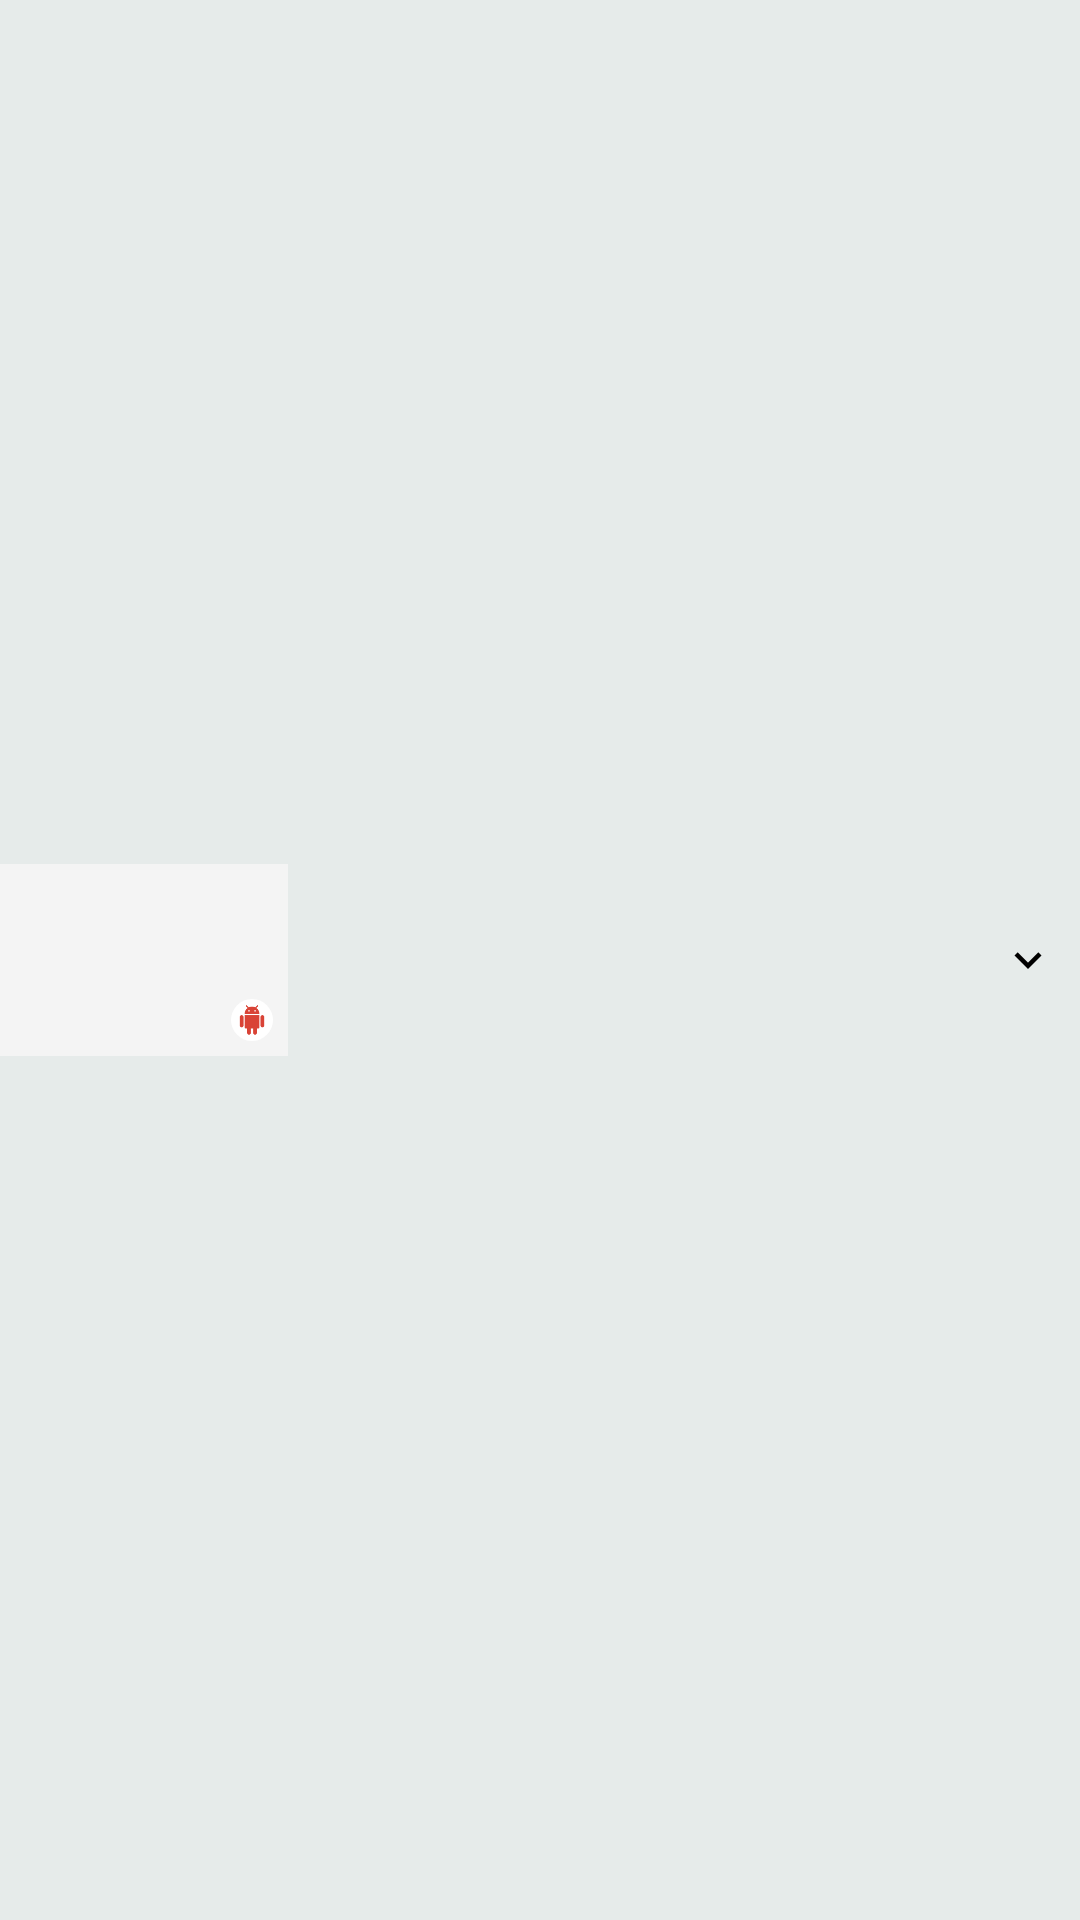

Where to tap for icons on this 1080*1920 app screen, as point (x, y):
chevron down: point (1028, 960)
